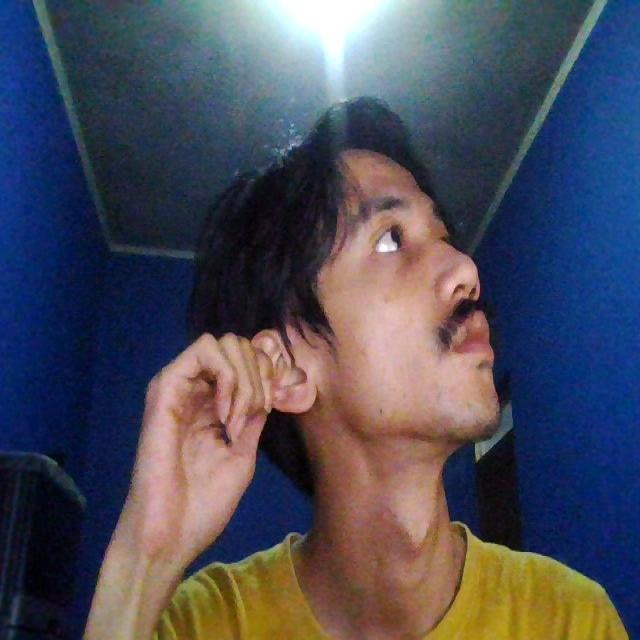melihat kekiri: (158, 120, 528, 465)
movement: (132, 300, 310, 577)
